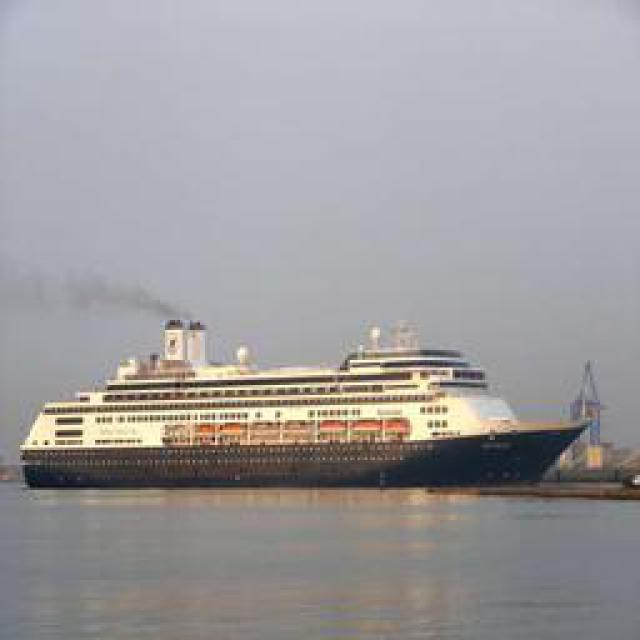Ship: (17, 307, 610, 490)
